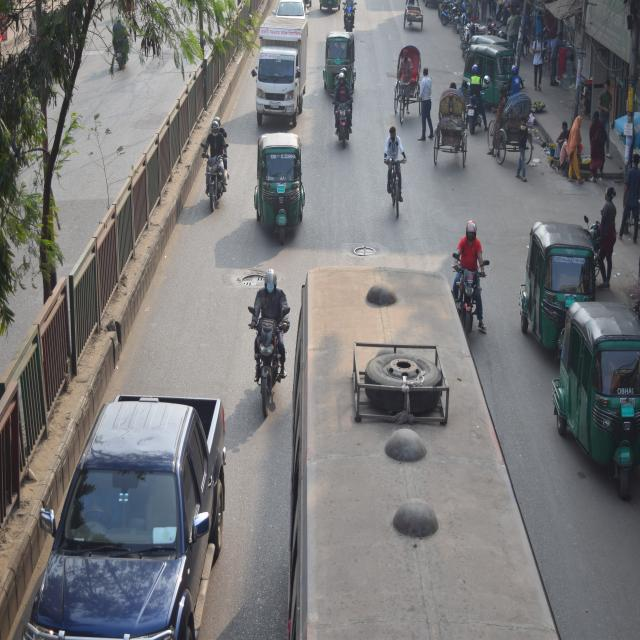bus: (292, 270, 562, 640)
motorbike: (242, 289, 288, 406), (448, 248, 488, 324), (200, 122, 229, 215), (101, 19, 145, 79), (457, 70, 487, 134), (583, 209, 610, 273), (329, 79, 352, 148), (336, 0, 361, 34), (439, 0, 465, 31)
pickup-van: (16, 382, 242, 640), (253, 12, 316, 120)
